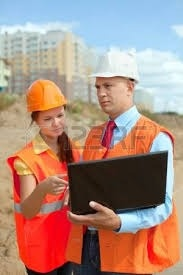helmet: (85, 49, 141, 82), (25, 78, 69, 111)
person with full safety: (82, 48, 182, 272), (15, 79, 91, 268)
safety vest: (87, 121, 178, 268), (14, 138, 79, 261)
